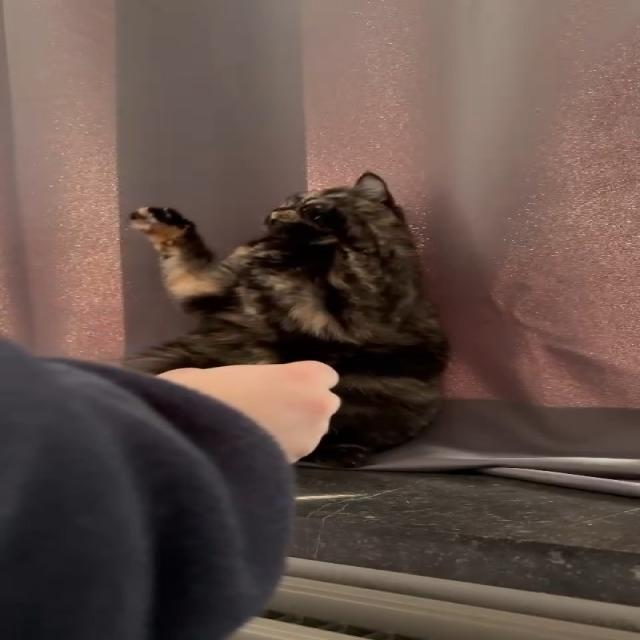authorized: (120, 170, 452, 468)
